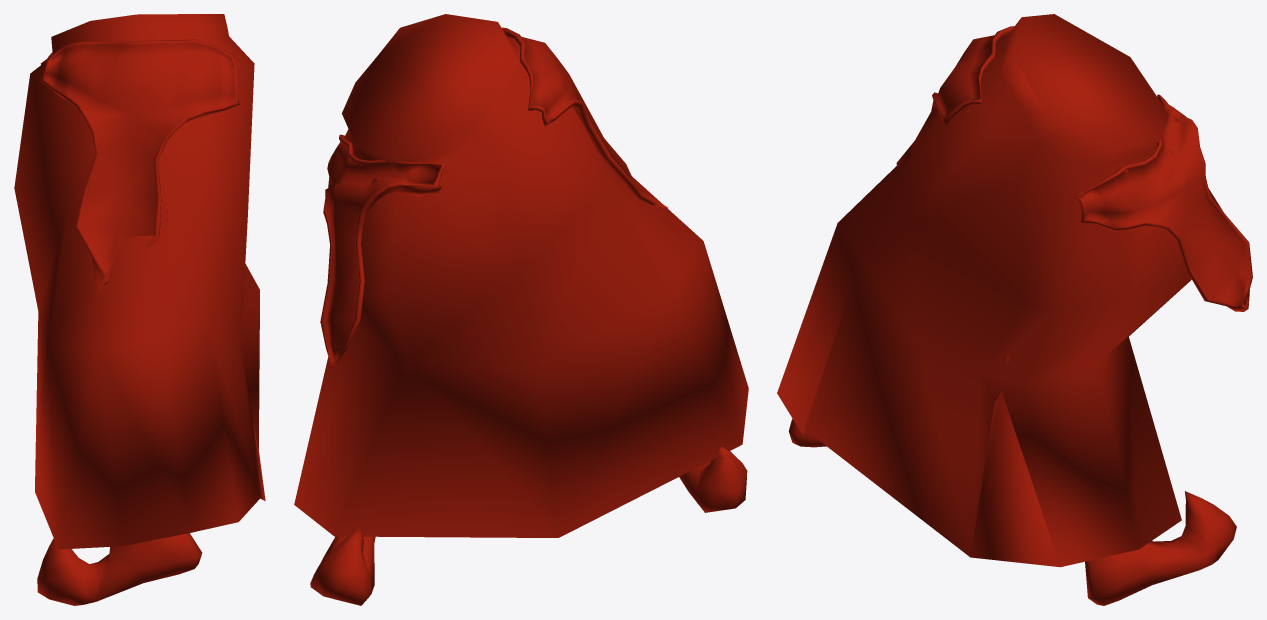
File: bot_000055.obj
3 renders of one model, left to right at view 1: azimuth 30°, elevation 25°; view 2: azimuth 150°, elevation 25°; view 3: azimuth 270°, elevation 25°, orthographic. The views are drawn at different scales.
Parts seen in each view (by area): view 1: LowPoly_Warlock.004_Plane.004; view 2: LowPoly_Warlock.004_Plane.004; view 3: LowPoly_Warlock.004_Plane.004.
Boxes of the visible parts, x1,y1,x2,y2 form: LowPoly_Warlock.004_Plane.004: [14, 14, 265, 605]; LowPoly_Warlock.004_Plane.004: [294, 14, 748, 605]; LowPoly_Warlock.004_Plane.004: [777, 14, 1252, 605].
Size of the model in its own units: 0.6776 by 1.13 by 0.9094.
